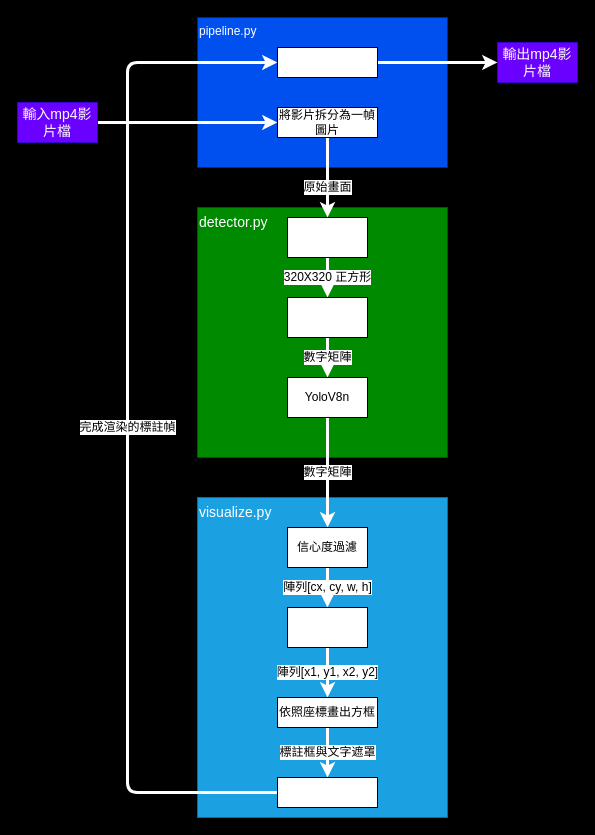
Image size: 595x835. Some labels were removed from this diagram. Here are the shapes that lost their labels. From the top down, the centre of each, then its label:
(x=327, y=62): 將每一幀圖片寫入檔案
(x=327, y=237): Letterbox
(x=327, y=317): Preprocess
(x=327, y=627): 座標換算
(x=327, y=792): 合併方框與畫面
